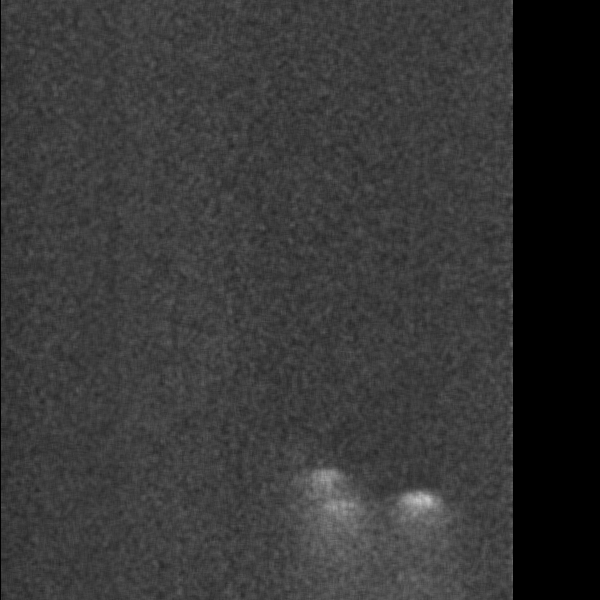spark: (280, 461, 372, 593), (371, 486, 453, 543)
